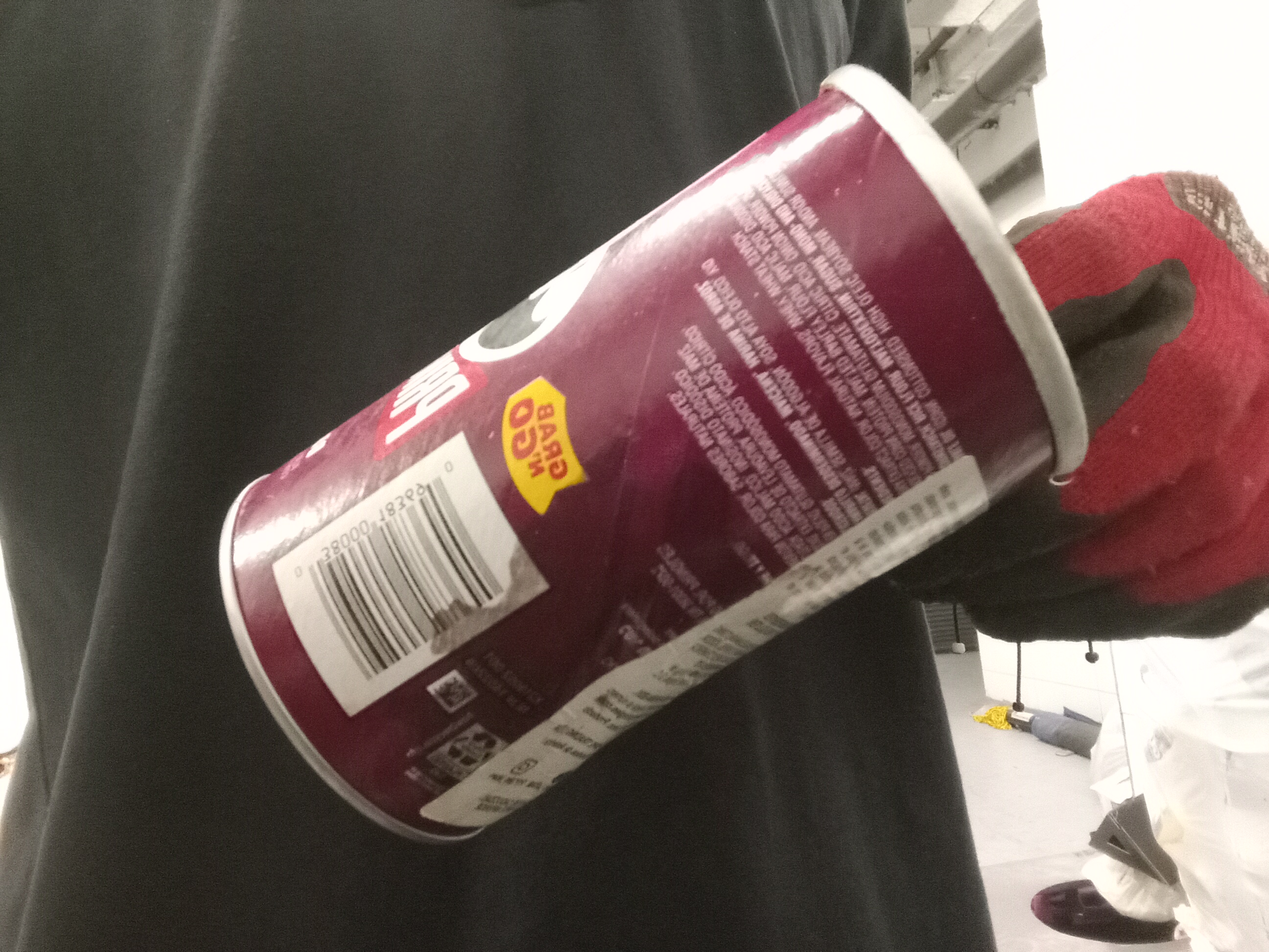Carton: (220, 64, 1094, 842)
